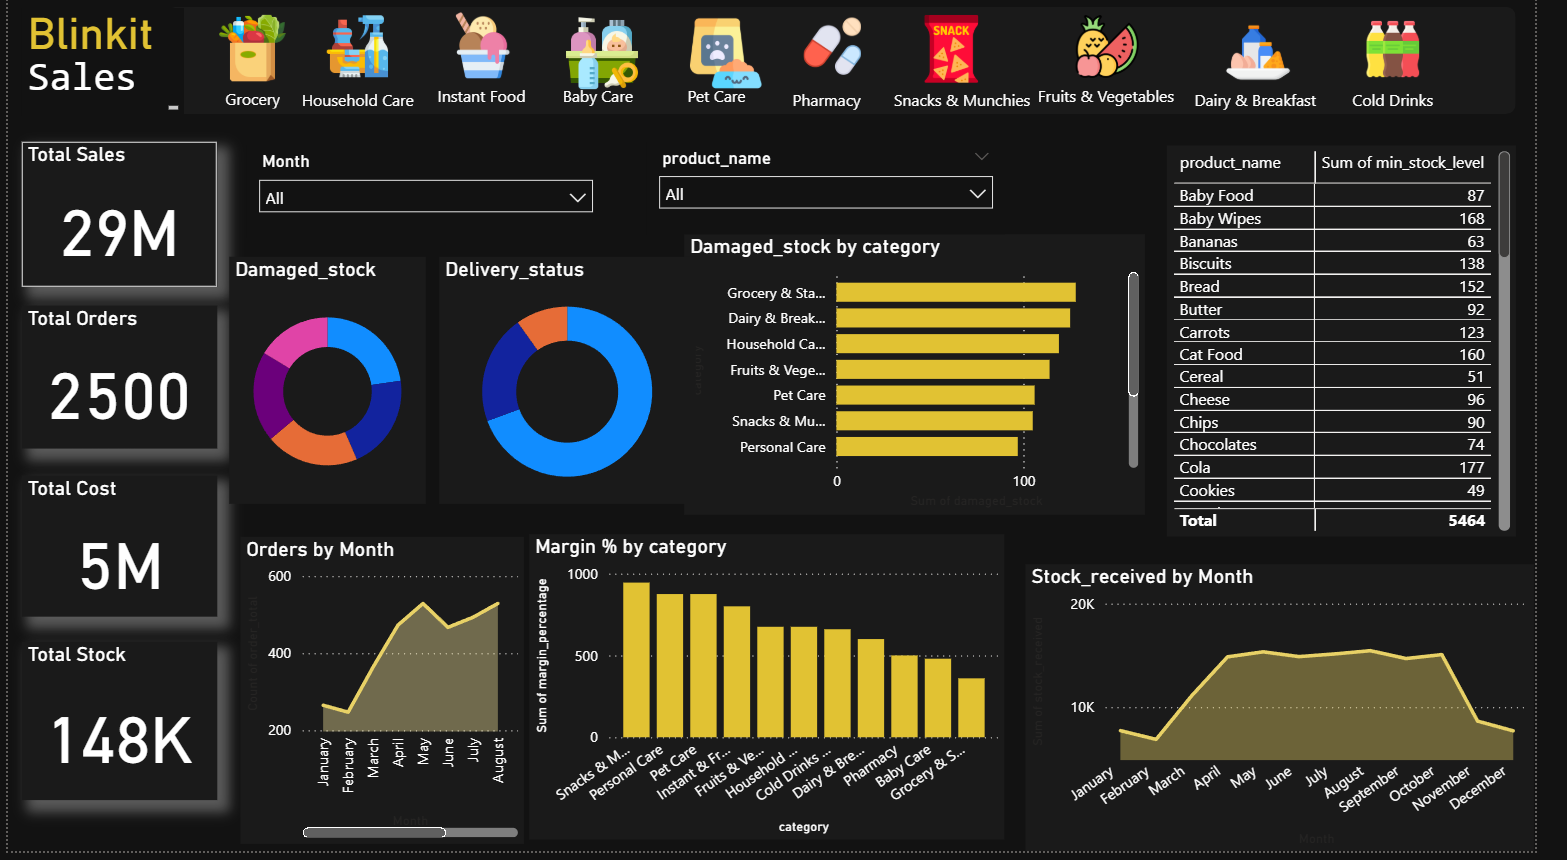

This screenshot's page, from the dashboard's own definition file:
{"tool":"powerbi","page":{"name":"Sales","canvas":[1280,720],"ordinal":1},"visuals":[{"type":"shape","title":"Orders by Month","box":[132.9,11.4,1131.4,90],"z":0},{"type":"actionButton","box":[154.7,68.2,100,40],"z":1000},{"type":"actionButton","box":[236.2,68.8,115,40],"z":2000},{"type":"card","title":"Total Sales","fields":{"Values":["blinkit_customer_feedback.Total Sales"]},"box":[11.2,125,163.8,121.2],"z":3000},{"type":"card","title":"Total Orders","fields":{"Values":["blinkit_customer_feedback.Total Orders"]},"box":[11.2,262.5,163.8,120],"z":4000},{"type":"card","title":"Total Cost","fields":{"Values":["blinkit_customer_feedback.Total Cost"]},"box":[11.2,405,163.8,118.8],"z":5000},{"type":"card","title":"Total Stock","fields":{"Values":["Sum(blinkit_inventory.stock_received)"]},"box":[11.2,543.8,163.8,132.5],"z":6000},{"type":"barChart","title":"Damaged_stock by category","fields":{"Category":["blinkit_products.category"],"Y":["Sum(blinkit_inventoryNew.damaged_stock)"]},"box":[567.4,202.3,386,234.9],"z":7000},{"type":"tableEx","fields":{"Values":["blinkit_products.product_name","Sum(blinkit_products.min_stock_level)"]},"box":[972,128,292.7,328],"z":8000},{"type":"clusteredColumnChart","title":"Margin % by category","fields":{"Y":["Sum(blinkit_products.margin_percentage)"],"Category":["blinkit_products.category"]},"box":[437.5,453.8,398.8,256.2],"z":9000},{"type":"areaChart","title":" Stock_received by Month","fields":{"Category":["blinkit_inventory.date.Variation.Date Hierarchy.Month"],"Y":["Sum(blinkit_inventory.stock_received)"]},"box":[853.8,478.8,426.2,241.2],"z":10000},{"type":"donutChart","title":"Delivery_status ","fields":{"Category":["blinkit_delivery_performance.delivery_status"],"Y":["CountNonNull(blinkit_delivery_performance.delivery_status)"]},"box":[361.2,221.2,215,207.5],"z":11000},{"type":"areaChart","title":"Orders by Month","fields":{"Category":["blinkit_orders.order_date.Variation.Date Hierarchy.Month"],"Y":["Count(blinkit_orders.order_total)"]},"box":[195.1,456.1,237.8,257.3],"z":12000},{"type":"donutChart","title":"Damaged_stock ","fields":{"Y":["Sum(blinkit_inventory.damaged_stock)"],"Category":["blinkit_products.category"]},"box":[186,220.9,165.1,207],"z":13000},{"type":"slicer","fields":{"Values":["blinkit_orders.order_date.Variation.Date Hierarchy.Month"]},"box":[200,127.5,300,77.5],"z":14000},{"type":"slicer","fields":{"Values":["blinkit_products.product_name"]},"box":[536,124.4,300,77.9],"z":15000},{"type":"image","box":[361.2,11.2,72.5,65],"z":16000},{"type":"actionButton","box":[340,66.2,115,40],"z":17000},{"type":"actionButton","box":[437.5,66.2,115,40],"z":18000},{"type":"actionButton","box":[536.2,66.2,115,40],"z":19000},{"type":"actionButton","box":[628.8,68.8,115,40],"z":20000},{"type":"actionButton","box":[988.8,68.8,115,40],"z":21000},{"type":"image","box":[460,12.5,76.2,76.2],"z":22000},{"type":"image","box":[567.5,12.5,70,76.2],"z":23000},{"type":"image","box":[662.5,12.5,57.5,63.8],"z":24000},{"type":"image","box":[888.8,13.8,65,62.5],"z":25000},{"type":"image","box":[757.5,13.8,66.2,66.2],"z":26000},{"type":"image","box":[1128.8,17.5,65,58.8],"z":27000},{"type":"image","box":[170,12.5,70,67.5],"z":28000},{"type":"image","box":[256.2,11.2,73.8,66.2],"z":29000},{"type":"image","box":[1015,11.2,67.5,77.5],"z":30000},{"type":"actionButton","box":[853.8,66.2,135,40],"z":31000},{"type":"actionButton","box":[720,68.8,160,40],"z":32000},{"type":"actionButton","box":[1103.8,68.8,115,40],"z":33000},{"type":"textbox","title":"Blinkit","box":[11.2,12.5,136.2,63.8],"z":34000},{"type":"textbox","title":"Sales","box":[11.2,51.2,136.2,51.2],"z":35000}]}

Visuals, with their boxes in screenshot pixels (x1, y1, x2, y2), scaled from the page's 1280x720 canvas onto the 1567x860 screenshot:
"Orders by Month" shape: box=[163, 14, 1548, 121]
actionButton: box=[189, 81, 312, 129]
actionButton: box=[289, 82, 430, 130]
"Total Sales" card: box=[14, 149, 214, 294]
"Total Orders" card: box=[14, 314, 214, 457]
"Total Cost" card: box=[14, 484, 214, 626]
"Total Stock" card: box=[14, 650, 214, 808]
"Damaged_stock by category" barChart: box=[695, 242, 1167, 522]
tableEx - blinkit_products.product_name x Sum(blinkit_products.min_stock_level): box=[1190, 153, 1548, 545]
"Margin % by category" clusteredColumnChart: box=[536, 542, 1024, 848]
" Stock_received by Month" areaChart: box=[1045, 572, 1566, 859]
"Delivery_status " donutChart: box=[442, 264, 705, 512]
"Orders by Month" areaChart: box=[239, 545, 530, 852]
"Damaged_stock " donutChart: box=[228, 264, 430, 511]
slicer - blinkit_orders.order_date.Variation.Date Hierarchy.Month: box=[245, 152, 612, 245]
slicer - blinkit_products.product_name: box=[656, 149, 1023, 242]
image: box=[442, 13, 531, 91]
actionButton: box=[416, 79, 557, 127]
actionButton: box=[536, 79, 676, 127]
actionButton: box=[656, 79, 797, 127]
actionButton: box=[770, 82, 911, 130]
actionButton: box=[1211, 82, 1351, 130]
image: box=[563, 15, 656, 106]
image: box=[695, 15, 780, 106]
image: box=[811, 15, 881, 91]
image: box=[1088, 16, 1168, 91]
image: box=[927, 16, 1008, 96]
image: box=[1382, 21, 1461, 91]
image: box=[208, 15, 294, 96]
image: box=[314, 13, 404, 92]
image: box=[1243, 13, 1325, 106]
actionButton: box=[1045, 79, 1211, 127]
actionButton: box=[881, 82, 1077, 130]
actionButton: box=[1351, 82, 1492, 130]
"Blinkit" textbox: box=[14, 15, 180, 91]
"Sales" textbox: box=[14, 61, 180, 122]
